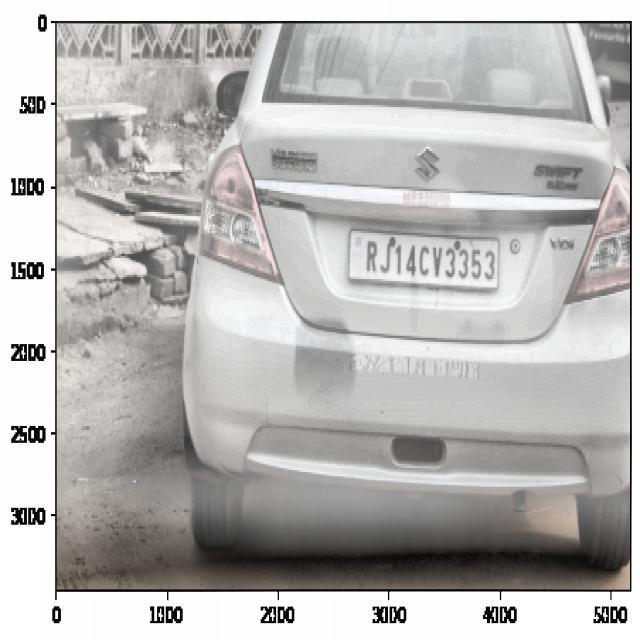license_plate: (361, 231, 498, 293)
